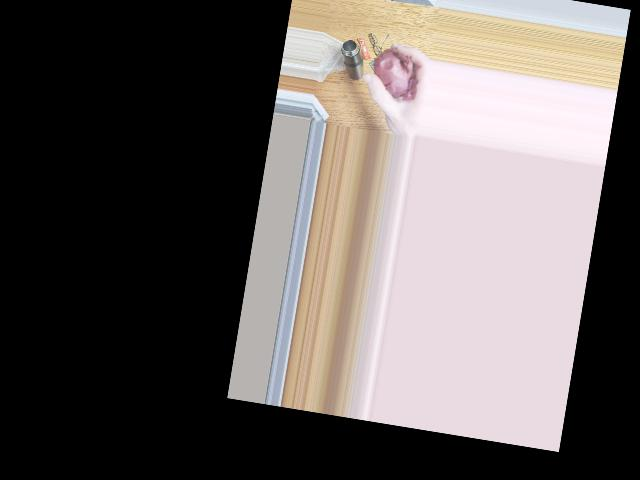onion: (375, 40, 421, 104)
